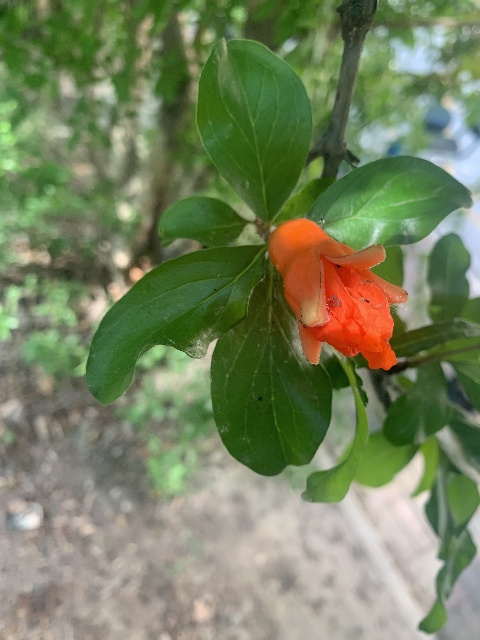flower: (269, 218, 408, 370)
